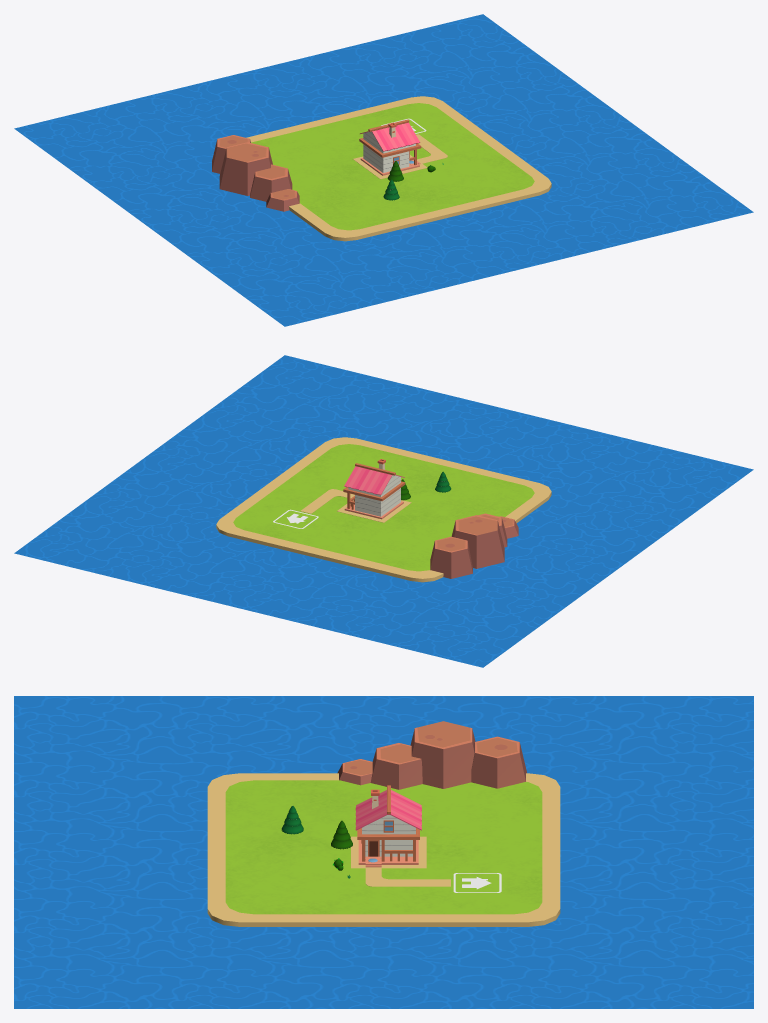
The model's file is Unavinar_Games_TT.fbx.
The picture shows the model from 3 angles, top to bottom: view 1: azimuth 30°, elevation 25°; view 2: azimuth 150°, elevation 25°; view 3: azimuth 270°, elevation 25°; orthographic projection. The views are drawn at different scales.
Visible parts, largest first — view 1: Water, Grass, Sand, Rock_4, Rock_2, Walls, Roof, Rock_3, Rock_1, Wood; view 2: Water, Grass, Sand, Rock_4, Rock_3, Walls, Roof, Wood; view 3: Water, Grass, Sand, Rock_4, Rock_3, Rock_2, Roof, Wood, Walls, Path, Rock_1, Foundation (+1 smaller).
Boxes of the visible parts, x1,y1,x2,y2 form: Water: (14,14,753,326); Grass: (251,103,534,230); Sand: (246,96,551,241); Rock_4: (219,142,272,195); Rock_2: (250,164,292,201); Walls: (363,131,415,172); Roof: (360,122,420,151); Rock_3: (212,135,250,173); Rock_1: (266,189,299,211); Wood: (359,119,421,165); Water: (14,355,753,667); Grass: (233,444,534,571); Sand: (216,437,551,582); Rock_4: (451,515,504,568); Rock_3: (430,536,472,578); Walls: (348,475,400,516); Roof: (344,466,404,494); Wood: (343,463,405,509); Water: (14,696,753,1008); Grass: (225,780,542,914); Sand: (207,773,560,926); Rock_4: (410,721,475,788); Rock_3: (471,736,526,788); Rock_2: (370,743,422,789); Roof: (355,790,421,830); Wood: (357,785,419,861); Walls: (362,815,415,856); Path: (365,868,450,886); Rock_1: (337,759,372,785); Foundation: (351,836,426,868).
Size of the model in its own units: 7112 by 810 by 7112.
